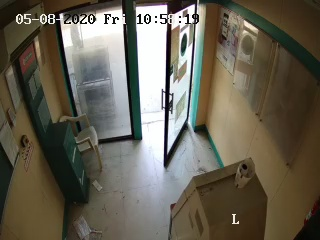open: (121, 1, 197, 173)
